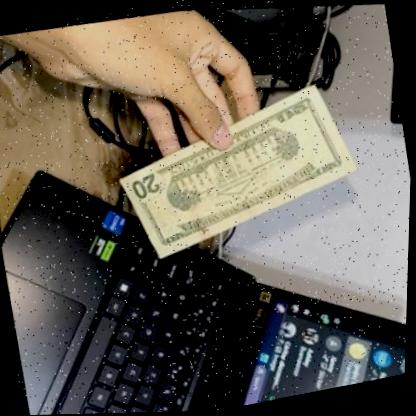twenty-back: (91, 43, 383, 295)
